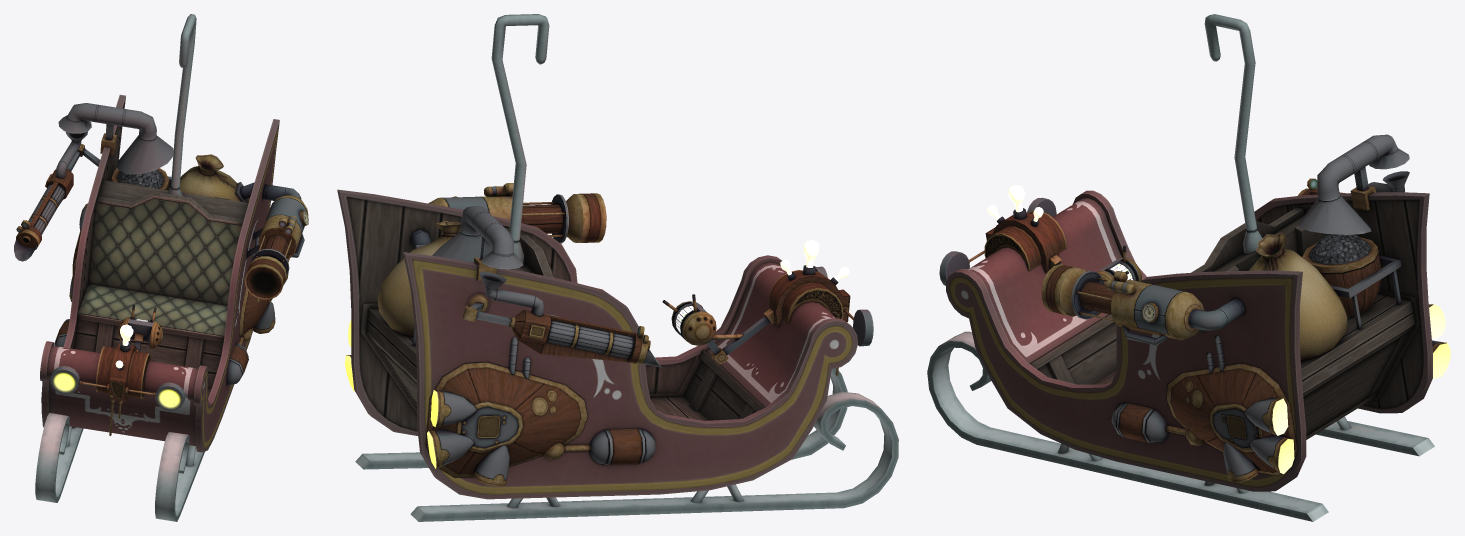
File: sleigh2.4f88555d.glb
The picture shows the model from 3 angles, left to right: view 1: azimuth 30°, elevation 25°; view 2: azimuth 150°, elevation 25°; view 3: azimuth 270°, elevation 25°; orthographic projection. The views are drawn at different scales.
Parts seen in each view (by area): view 1: Object_5, Object_6, Object_7, Object_4; view 2: Object_5, Object_7, Object_6, Object_4; view 3: Object_5, Object_7, Object_6, Object_4.
Boxes of the visible parts, x1,y1,x2,y2 form: Object_5: (35,14,279,521); Object_6: (50,154,308,435); Object_7: (14,103,288,385); Object_4: (53,372,180,408); Object_5: (337,14,898,521); Object_7: (346,205,661,486); Object_6: (377,183,873,375); Object_4: (345,319,438,468); Object_5: (927,14,1434,521); Object_7: (1111,134,1446,482); Object_6: (939,197,1347,361); Object_4: (1272,304,1450,473).
Bounding box in the file's own units: 2.02 × 2.21 × 2.11.
6 materials, 5 textured.
